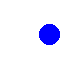circle: (39, 24, 59, 44)
